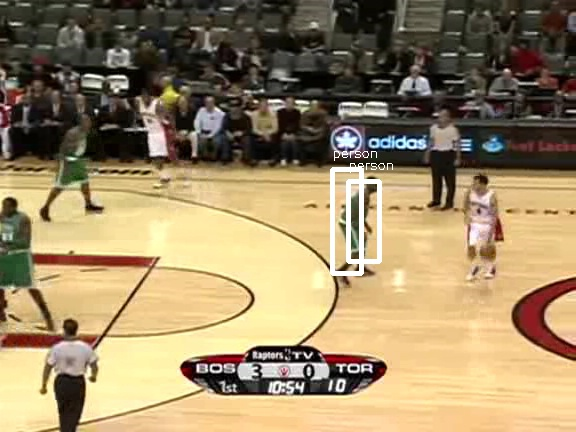person: (338, 182, 372, 263), (337, 182, 371, 263), (339, 182, 373, 263), (338, 181, 372, 262), (338, 183, 372, 264)
target_negative: (232, 294, 349, 378), (192, 340, 246, 423), (475, 80, 508, 207), (132, 196, 213, 212), (174, 338, 181, 430), (147, 173, 166, 204)
